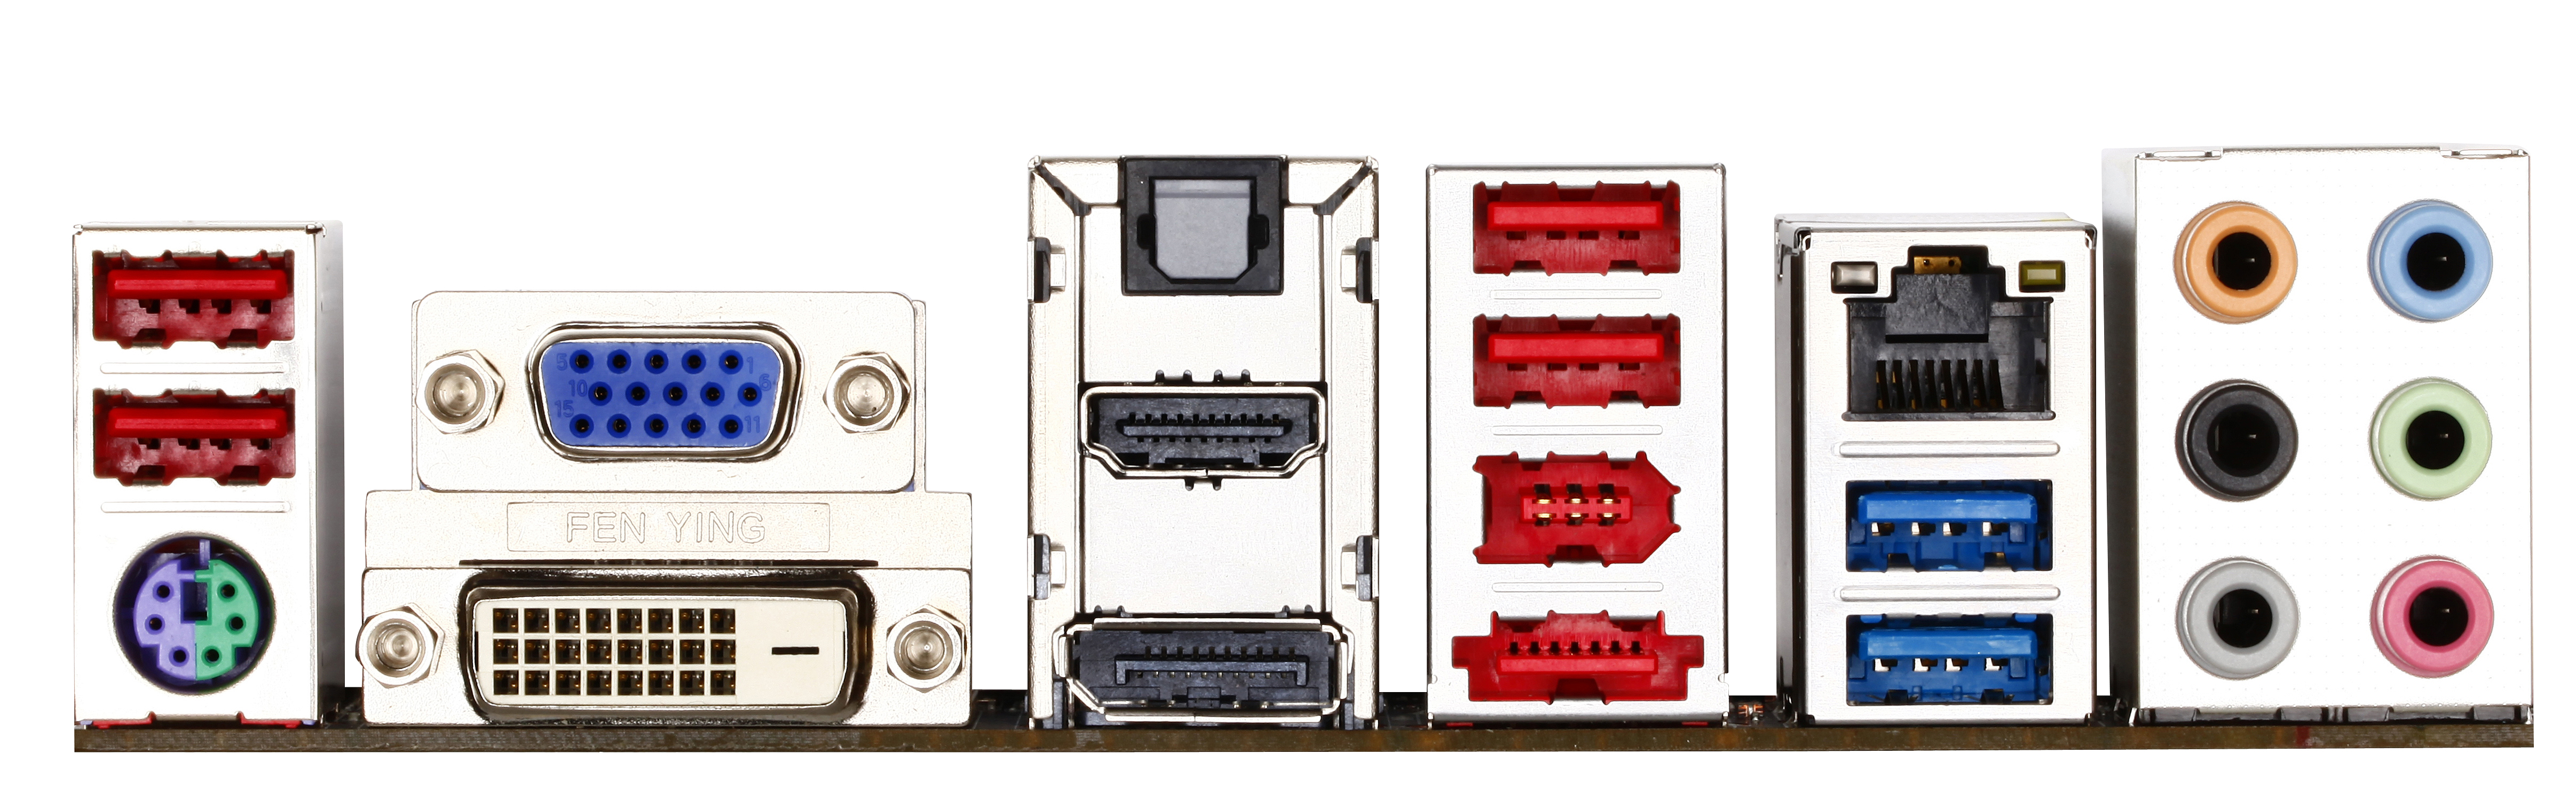Audio: (2165, 360, 2315, 512), (2366, 187, 2500, 338), (2169, 184, 2311, 324), (2364, 552, 2494, 691), (2364, 373, 2491, 512), (2182, 552, 2297, 686)
DVI: (444, 565, 877, 729)
Ethernet: (1802, 230, 2090, 448)
HDMI: (1060, 370, 1349, 488)
USB: (1824, 606, 2068, 719), (1817, 466, 2065, 576), (1460, 176, 1700, 284), (1456, 309, 1686, 415)
VGA: (519, 309, 816, 466)
